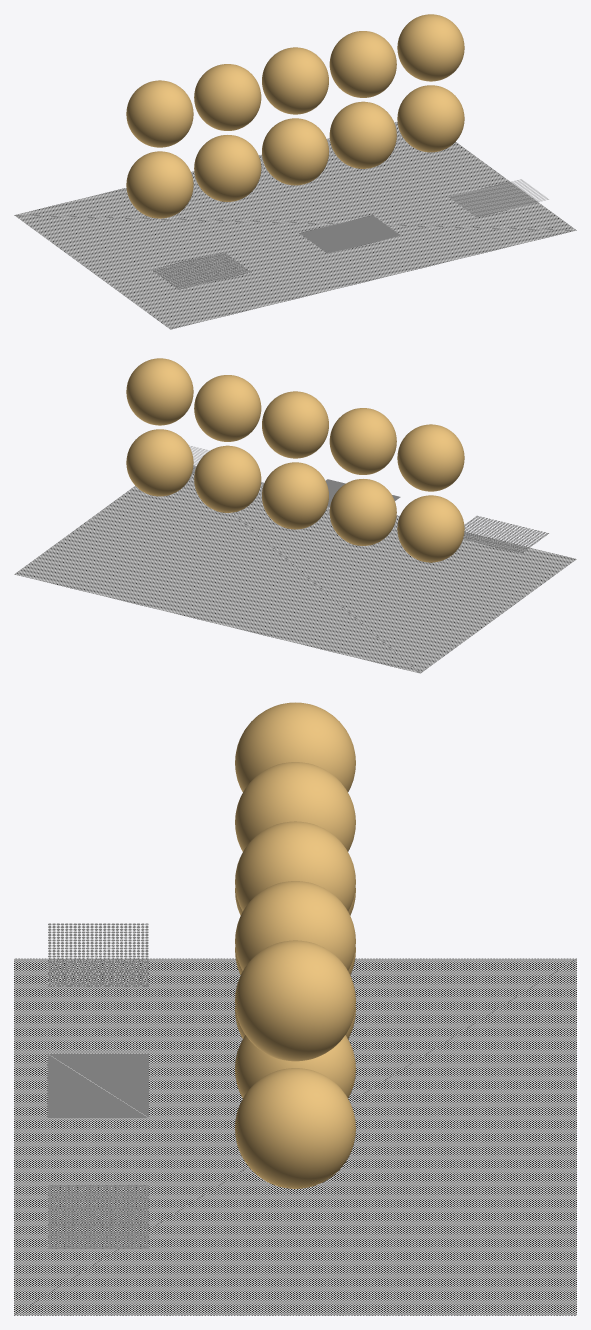
File: specular_reference.gltf
3 views of the same model, one above another, from view 1: azimuth 30°, elevation 25°; view 2: azimuth 150°, elevation 25°; view 3: azimuth 270°, elevation 25° (orthographic). The views are drawn at different scales.
Parts seen in each view (by area): view 1: Floor/UV repetition, Metal Core neutral, Metal Black F0, Dielectric Core neutral, Dielectric Colored .35, Dielectric Black F0, Metal Colored .35, Dielectric Color clamp .6, Metal Strength zero, Metal Color clamp .6, Dielectric Strength zero, Mirrored single-sided card (+2 smaller); view 2: Floor/UV repetition, Metal Core neutral, Metal Black F0, Dielectric Core neutral, Dielectric Colored .35, Dielectric Black F0, Metal Colored .35, Dielectric Color clamp .6, Metal Strength zero, Metal Color clamp .6, Dielectric Strength zero, Alpha mask card; view 3: Floor/UV repetition, Metal Black F0, Dielectric Black F0, Metal Core neutral, Metal Colored .35, Metal Color clamp .6, Metal Strength zero, Mirrored single-sided card, Alpha mask card, Alpha blend card, Dielectric Color clamp .6.
Boxes of the visible parts, left/top/right/bottom form: Floor/UV repetition: left=14, top=121, right=576, bottom=329; Metal Core neutral: left=126, top=80, right=193, bottom=147; Metal Black F0: left=397, top=14, right=464, bottom=81; Dielectric Core neutral: left=126, top=151, right=193, bottom=218; Dielectric Colored .35: left=262, top=118, right=328, bottom=185; Dielectric Black F0: left=397, top=85, right=464, bottom=152; Metal Colored .35: left=262, top=47, right=328, bottom=114; Dielectric Color clamp .6: left=329, top=101, right=396, bottom=168; Metal Strength zero: left=194, top=64, right=261, bottom=130; Metal Color clamp .6: left=329, top=31, right=396, bottom=97; Dielectric Strength zero: left=194, top=135, right=261, bottom=201; Mirrored single-sided card: left=300, top=215, right=400, bottom=253; Floor/UV repetition: left=14, top=465, right=576, bottom=673; Metal Core neutral: left=397, top=424, right=464, bottom=491; Metal Black F0: left=126, top=358, right=193, bottom=425; Dielectric Core neutral: left=397, top=495, right=464, bottom=562; Dielectric Colored .35: left=262, top=462, right=328, bottom=529; Dielectric Black F0: left=126, top=429, right=193, bottom=496; Metal Colored .35: left=262, top=391, right=328, bottom=458; Dielectric Color clamp .6: left=194, top=445, right=261, bottom=512; Metal Strength zero: left=329, top=408, right=396, bottom=474; Metal Color clamp .6: left=194, top=375, right=261, bottom=441; Dielectric Strength zero: left=329, top=479, right=396, bottom=545; Alpha mask card: left=463, top=515, right=548, bottom=553; Floor/UV repetition: left=14, top=958, right=576, bottom=1315; Metal Black F0: left=235, top=940, right=355, bottom=1061; Dielectric Black F0: left=235, top=1068, right=355, bottom=1188; Metal Core neutral: left=235, top=702, right=355, bottom=791; Metal Colored .35: left=235, top=821, right=355, bottom=910; Metal Color clamp .6: left=235, top=881, right=355, bottom=970; Metal Strength zero: left=235, top=762, right=355, bottom=851; Mirrored single-sided card: left=47, top=1054, right=148, bottom=1117; Alpha mask card: left=48, top=923, right=148, bottom=986; Alpha blend card: left=48, top=1185, right=148, bottom=1248; Dielectric Color clamp .6: left=235, top=1035, right=355, bottom=1097.
Size of the model in its own units: 6 by 2.43 by 4.
Materials: 14 (4 with a texture image).
